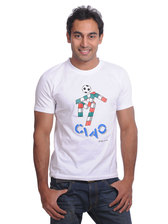clothoes: (30, 55, 143, 180)
